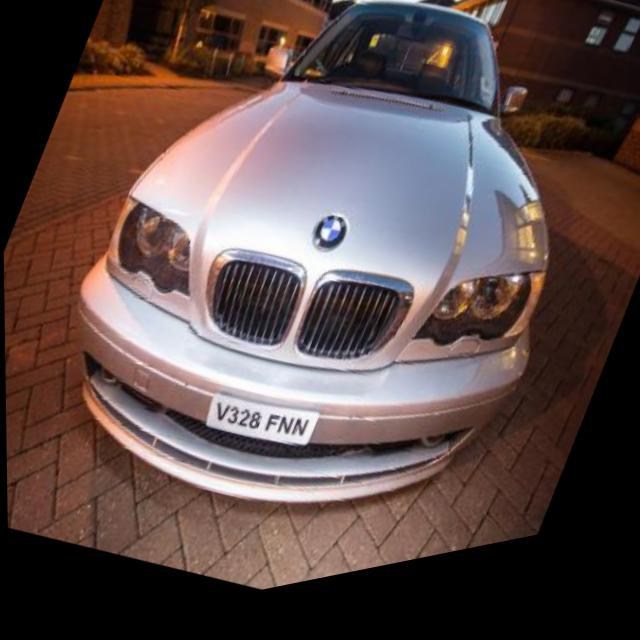license_plate: (199, 379, 320, 482)
